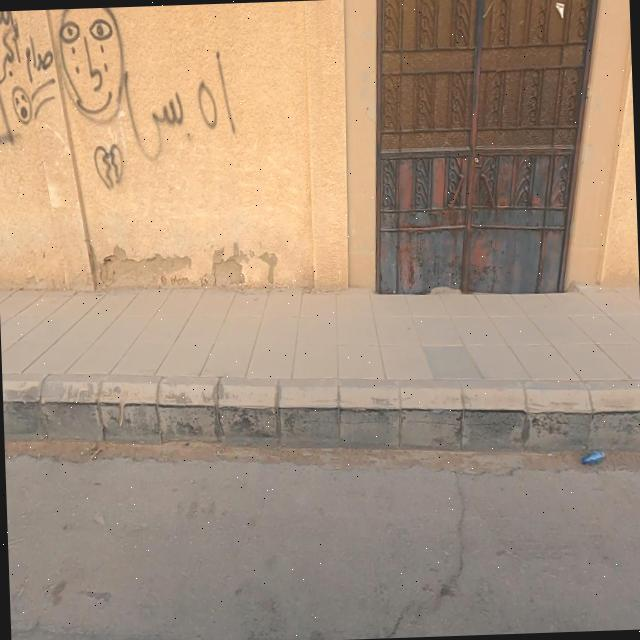Graffiti: (0, 3, 237, 192)
